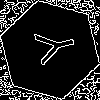Y: (25, 25, 78, 69)
